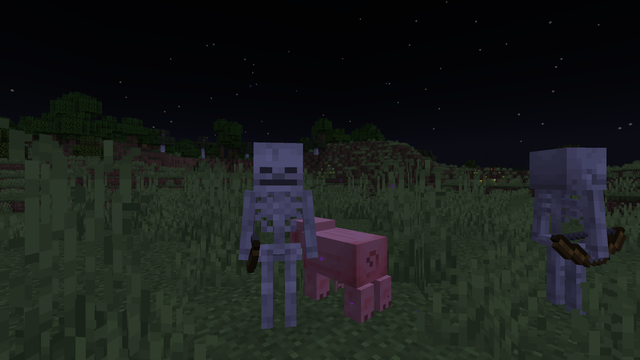cochons: (329, 224, 389, 323)
squelettes: (242, 141, 316, 349), (529, 146, 600, 325)
